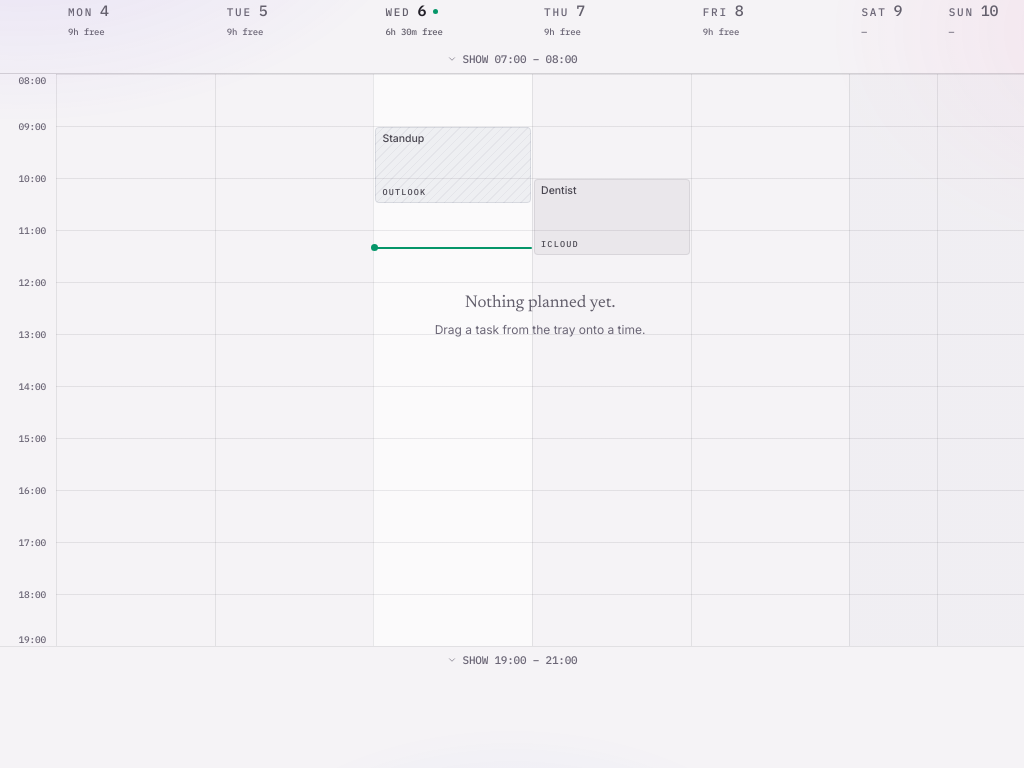
Test: WeekGrid (chunk 36) › opens the popover on click with the fresh sync line, closes on Escape
The image size is (1024, 768).
Click the text "Standup": (403, 138) [382, 130, 424, 146]
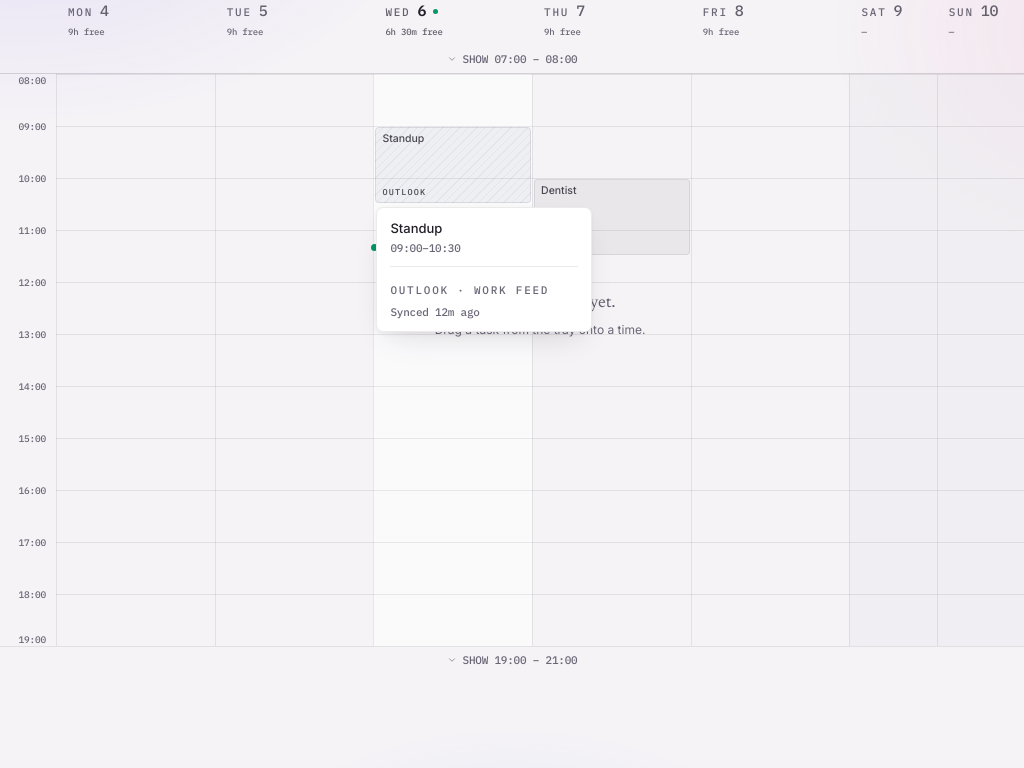
Check: the dialog shows "OUTLOOK · WORK FEED", box [390, 282, 549, 296]
Check: the dialog shows "09:00–10:30", box [390, 241, 461, 255]
Check: the dialog shows "Synced 12m ago", box [390, 304, 480, 318]
Press Escape
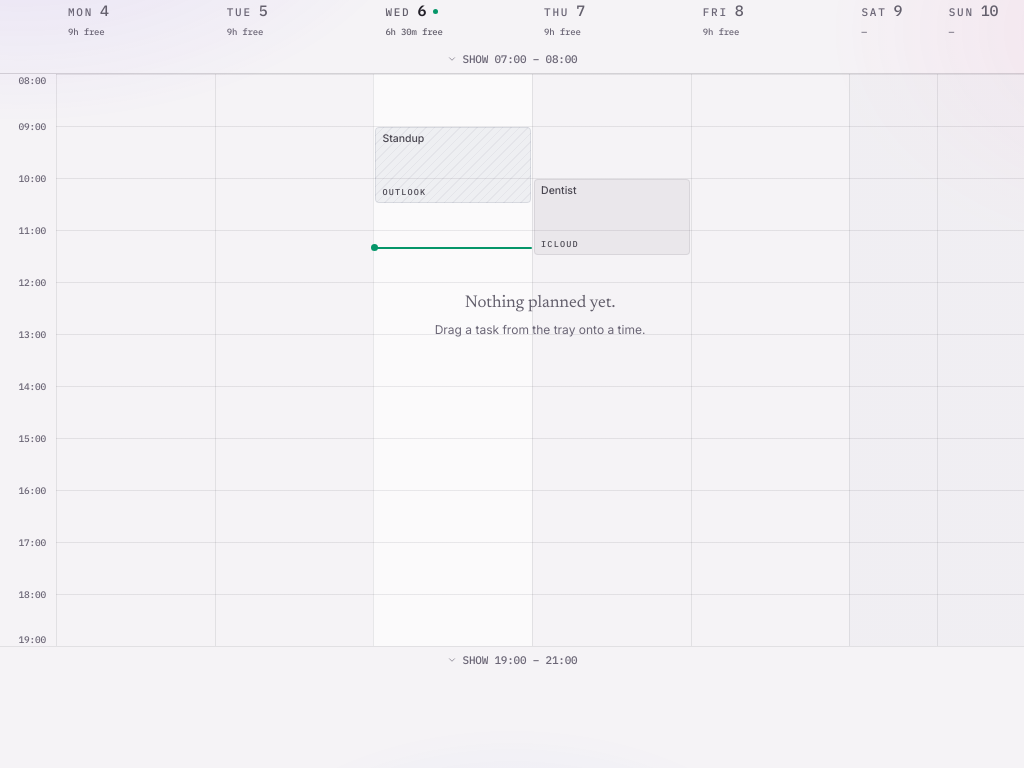
Check: the dialog is gone
